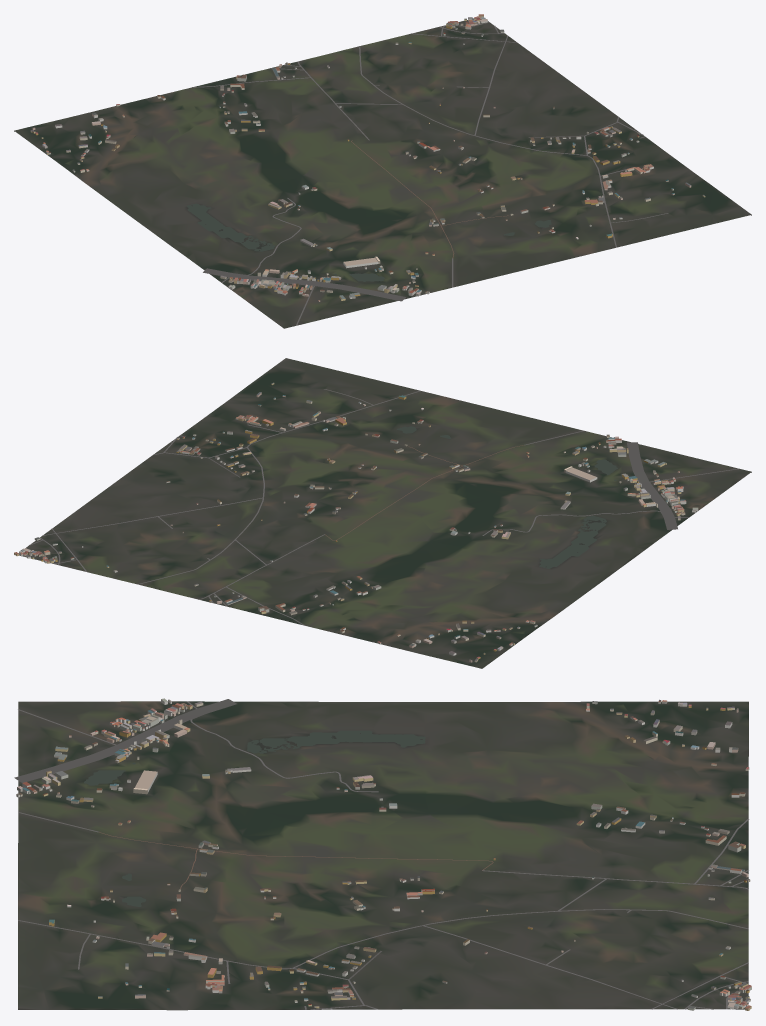
The picture shows the model from 3 angles, top to bottom: view 1: azimuth 30°, elevation 25°; view 2: azimuth 150°, elevation 25°; view 3: azimuth 270°, elevation 25°; orthographic projection. The views are drawn at different scales.
Parts seen in each view (by area): view 1: ground, buildings, roads, water; view 2: ground, buildings, roads, water; view 3: ground, buildings, roads, water.
Part boxes in pixels (x1,y1,x2,y2): ground: (14,19,751,328); buildings: (30,14,705,301); roads: (192,22,668,325); water: (187,203,551,281); ground: (18,358,751,668); buildings: (14,382,698,662); roads: (19,389,739,625); water: (396,426,617,568); ground: (18,701,748,1010); buildings: (16,698,751,1010); roads: (14,699,749,1009); water: (84,730,425,906).
Bounding box in the file's own units: 1419 × 14.32 × 1416.
